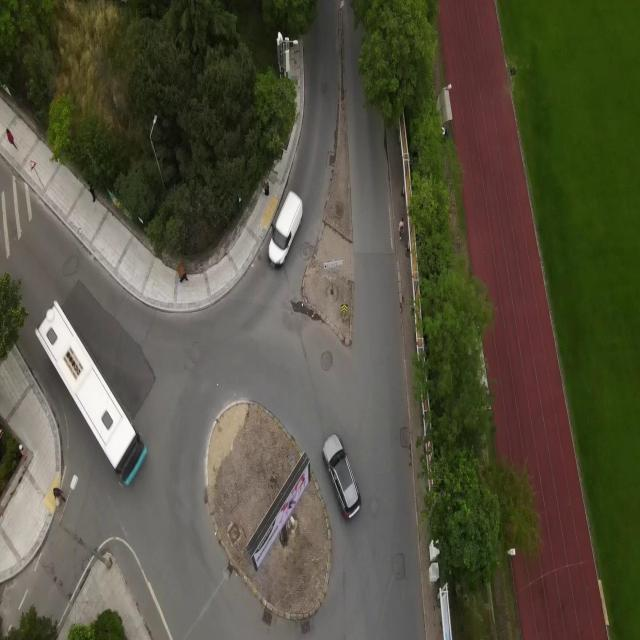p3rson: (6, 128, 18, 151), (53, 488, 66, 502), (398, 218, 404, 240), (180, 269, 188, 283), (263, 180, 269, 198)
